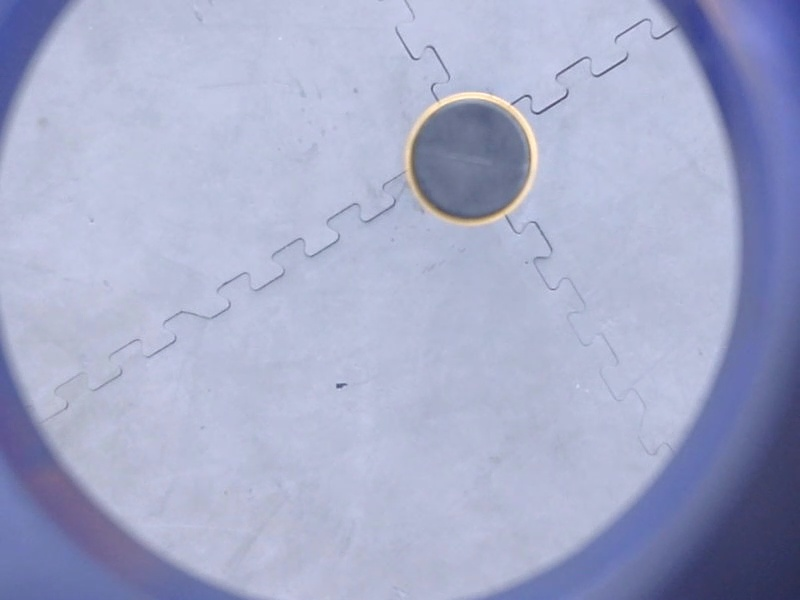tip: (395, 83, 550, 236)
